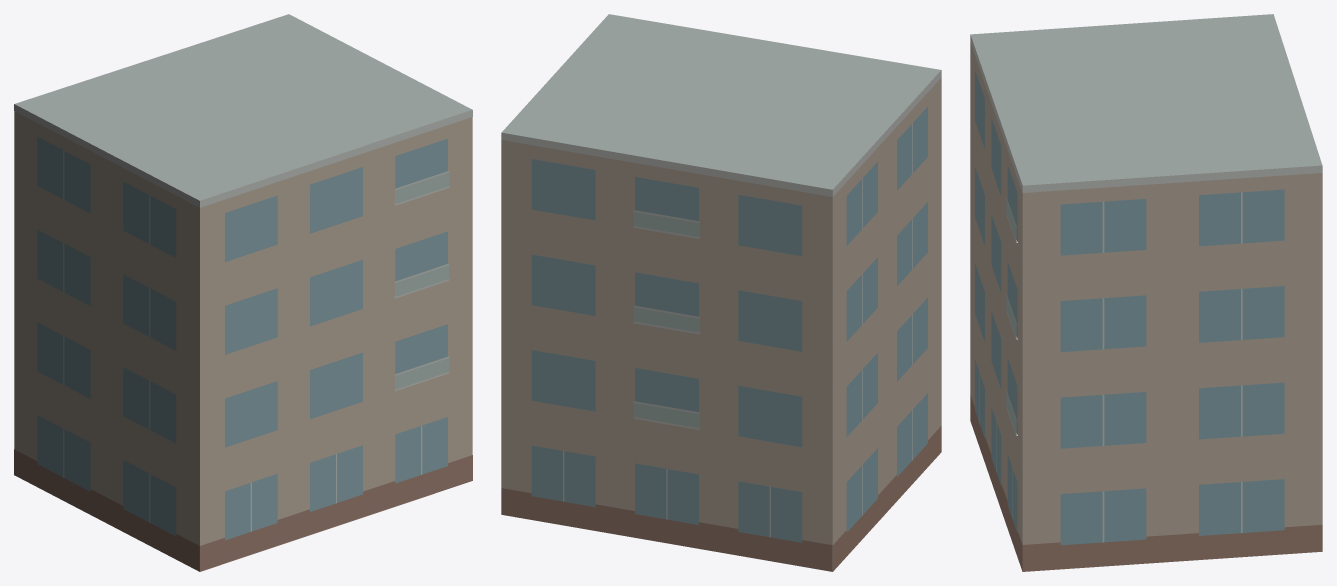
The model's file is survey-upis-32626570.glb.
3 renders of one model, left to right at view 1: azimuth 30°, elevation 25°; view 2: azimuth 150°, elevation 25°; view 3: azimuth 270°, elevation 25°, orthographic. The views are drawn at different scales.
Parts seen in each view (by area): view 1: survey-upis-32626570.tmp; view 2: survey-upis-32626570.tmp; view 3: survey-upis-32626570.tmp.
Part boxes in pixels (x1,y1,x2,y2): survey-upis-32626570.tmp: (14, 14, 472, 571); survey-upis-32626570.tmp: (501, 14, 941, 571); survey-upis-32626570.tmp: (970, 14, 1322, 571).
Size of the model in its own units: 12.21 by 12.8 by 10.59.
